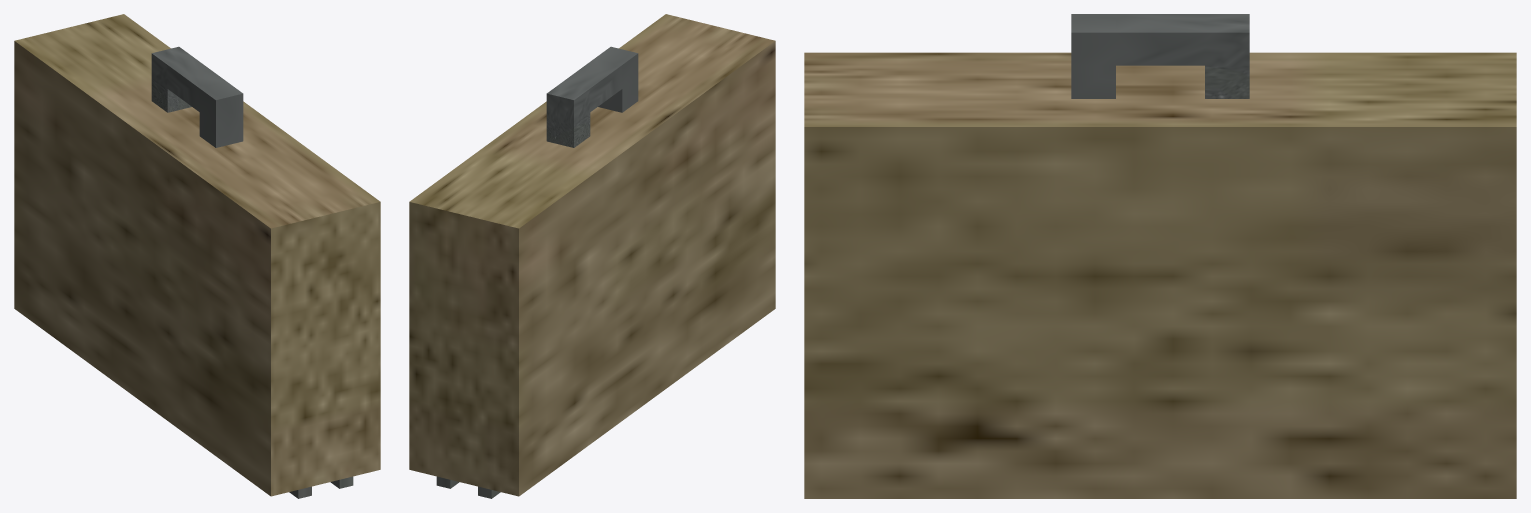
The model's file is sumka.fbx.
3 renders of one model, left to right at view 1: azimuth 30°, elevation 25°; view 2: azimuth 150°, elevation 25°; view 3: azimuth 270°, elevation 25°, orthographic. The views are drawn at different scales.
Parts seen in each view (by area): view 1: Cube; view 2: Cube; view 3: Cube.
Boxes of the visible parts, x1=… form: Cube: x1=14, y1=14, x2=380, y2=498; Cube: x1=409, y1=14, x2=775, y2=498; Cube: x1=804, y1=14, x2=1516, y2=498.
Size of the model in its own units: 48 by 136 by 194.
